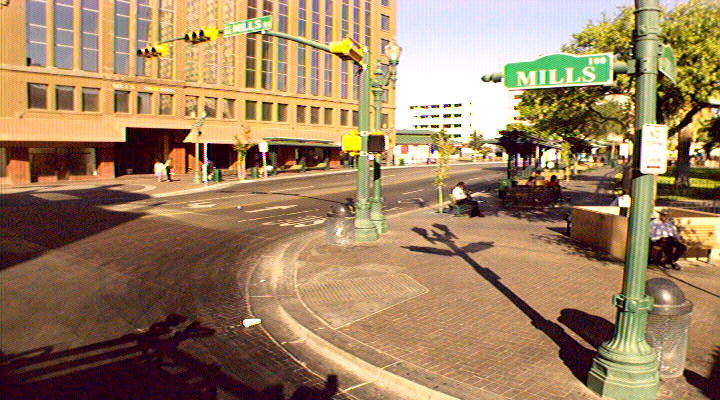Ramp: (232, 252, 433, 344)
